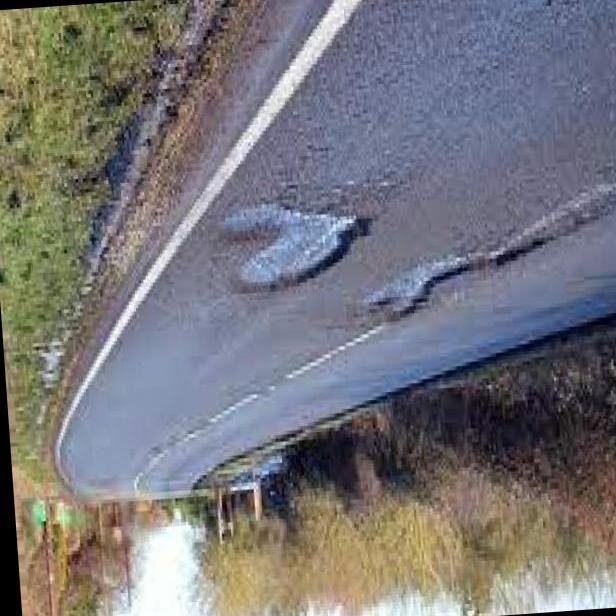pothole: (211, 196, 370, 310), (354, 254, 508, 334)
